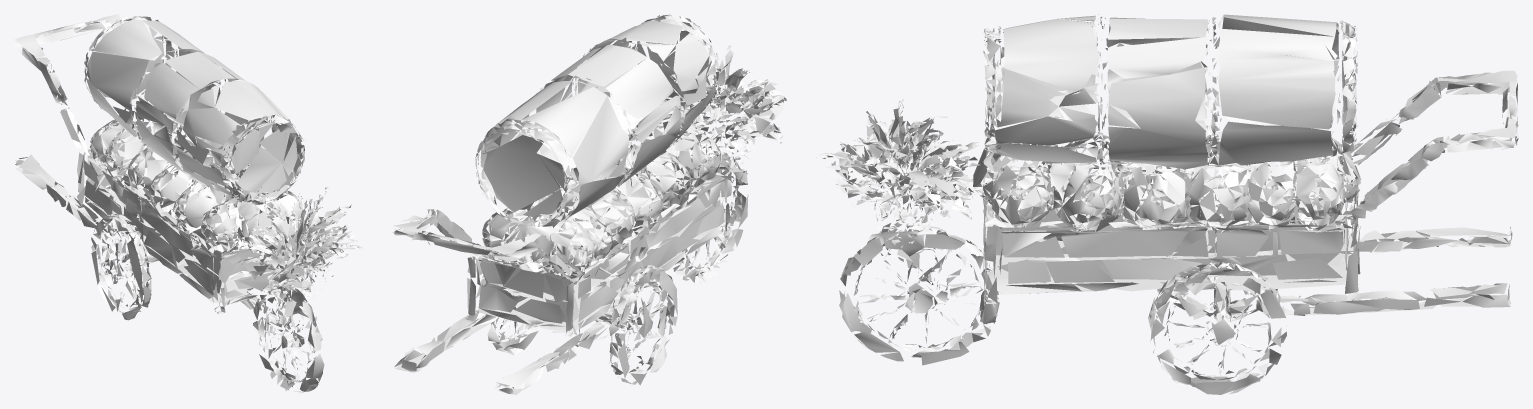
The model's file is beach-coconut-cart.glb.
3 renders of one model, left to right at view 1: azimuth 30°, elevation 25°; view 2: azimuth 150°, elevation 25°; view 3: azimuth 270°, elevation 25°, orthographic. The views are drawn at different scales.
Visible parts, largest first — view 1: model; view 2: model; view 3: model.
Part boxes in pixels (<box>): model: <box>14,14,362,393</box>; model: <box>392,14,786,394</box>; model: <box>815,14,1518,394</box>.
Size of the model in its own units: 0.5094 by 1.02 by 1.9.
1 material, 1 textured.
